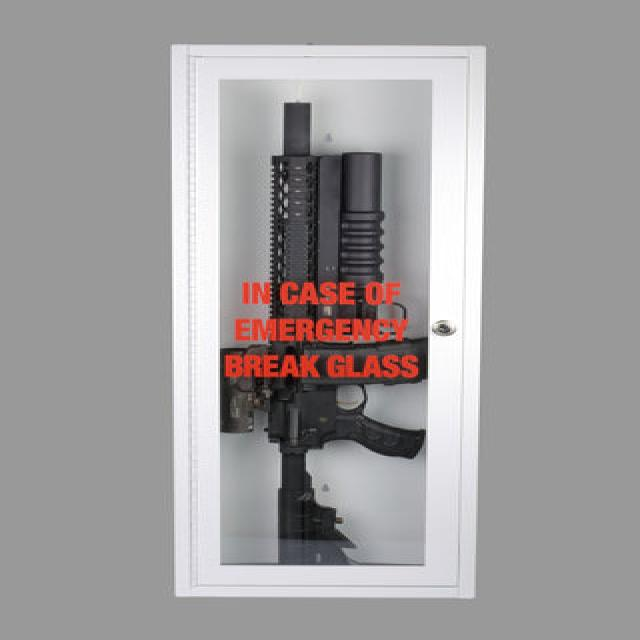Rifle: (222, 103, 428, 567)
